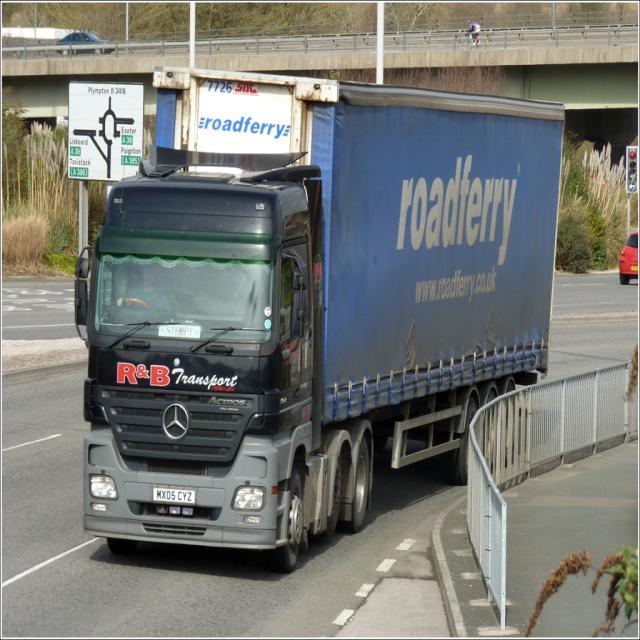car: (56, 30, 115, 55)
